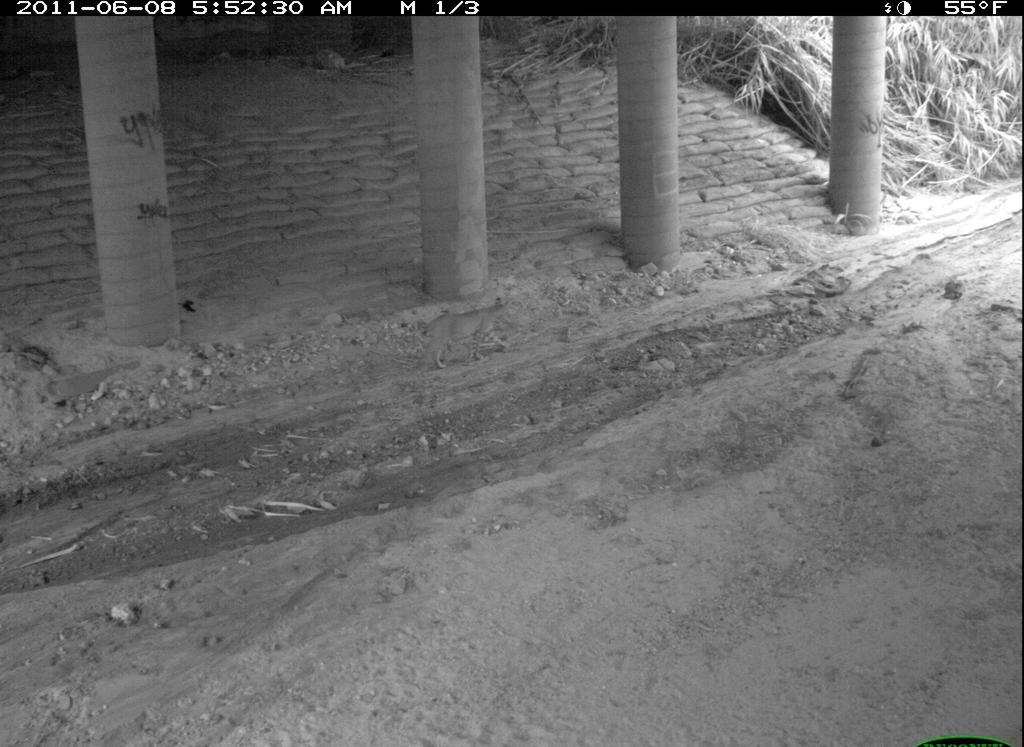bobcat: (833, 587, 1024, 747)
